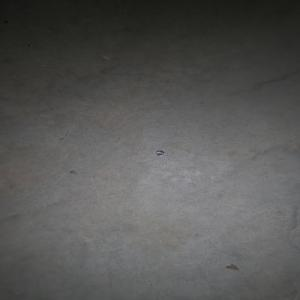Nut: (155, 150, 164, 156)
